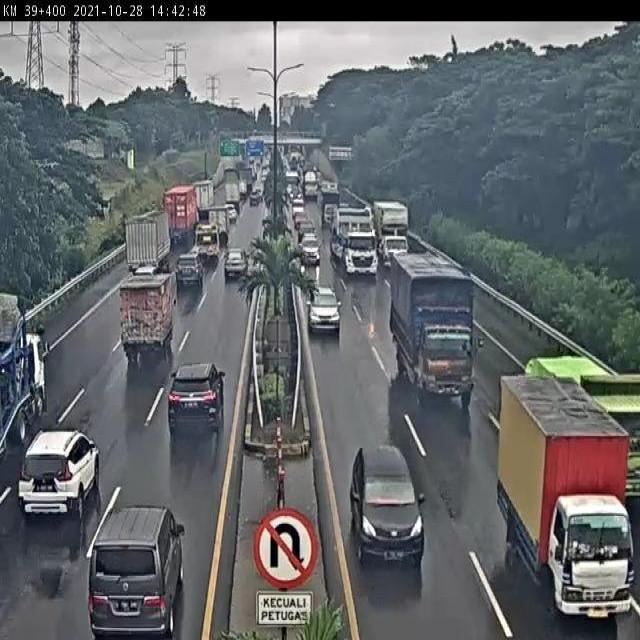big truck: (0, 287, 48, 489)
car: (85, 506, 183, 638), (348, 449, 424, 564), (14, 431, 100, 516), (165, 362, 225, 434), (307, 288, 341, 336), (179, 246, 204, 278), (299, 235, 321, 265), (226, 247, 250, 272)
mid truck: (194, 222, 222, 255)
truck-l-: (390, 256, 475, 412), (375, 200, 415, 272)
truck-m-: (499, 377, 630, 611), (121, 269, 179, 360), (129, 216, 173, 265)
truck-xl-: (331, 210, 381, 278)
